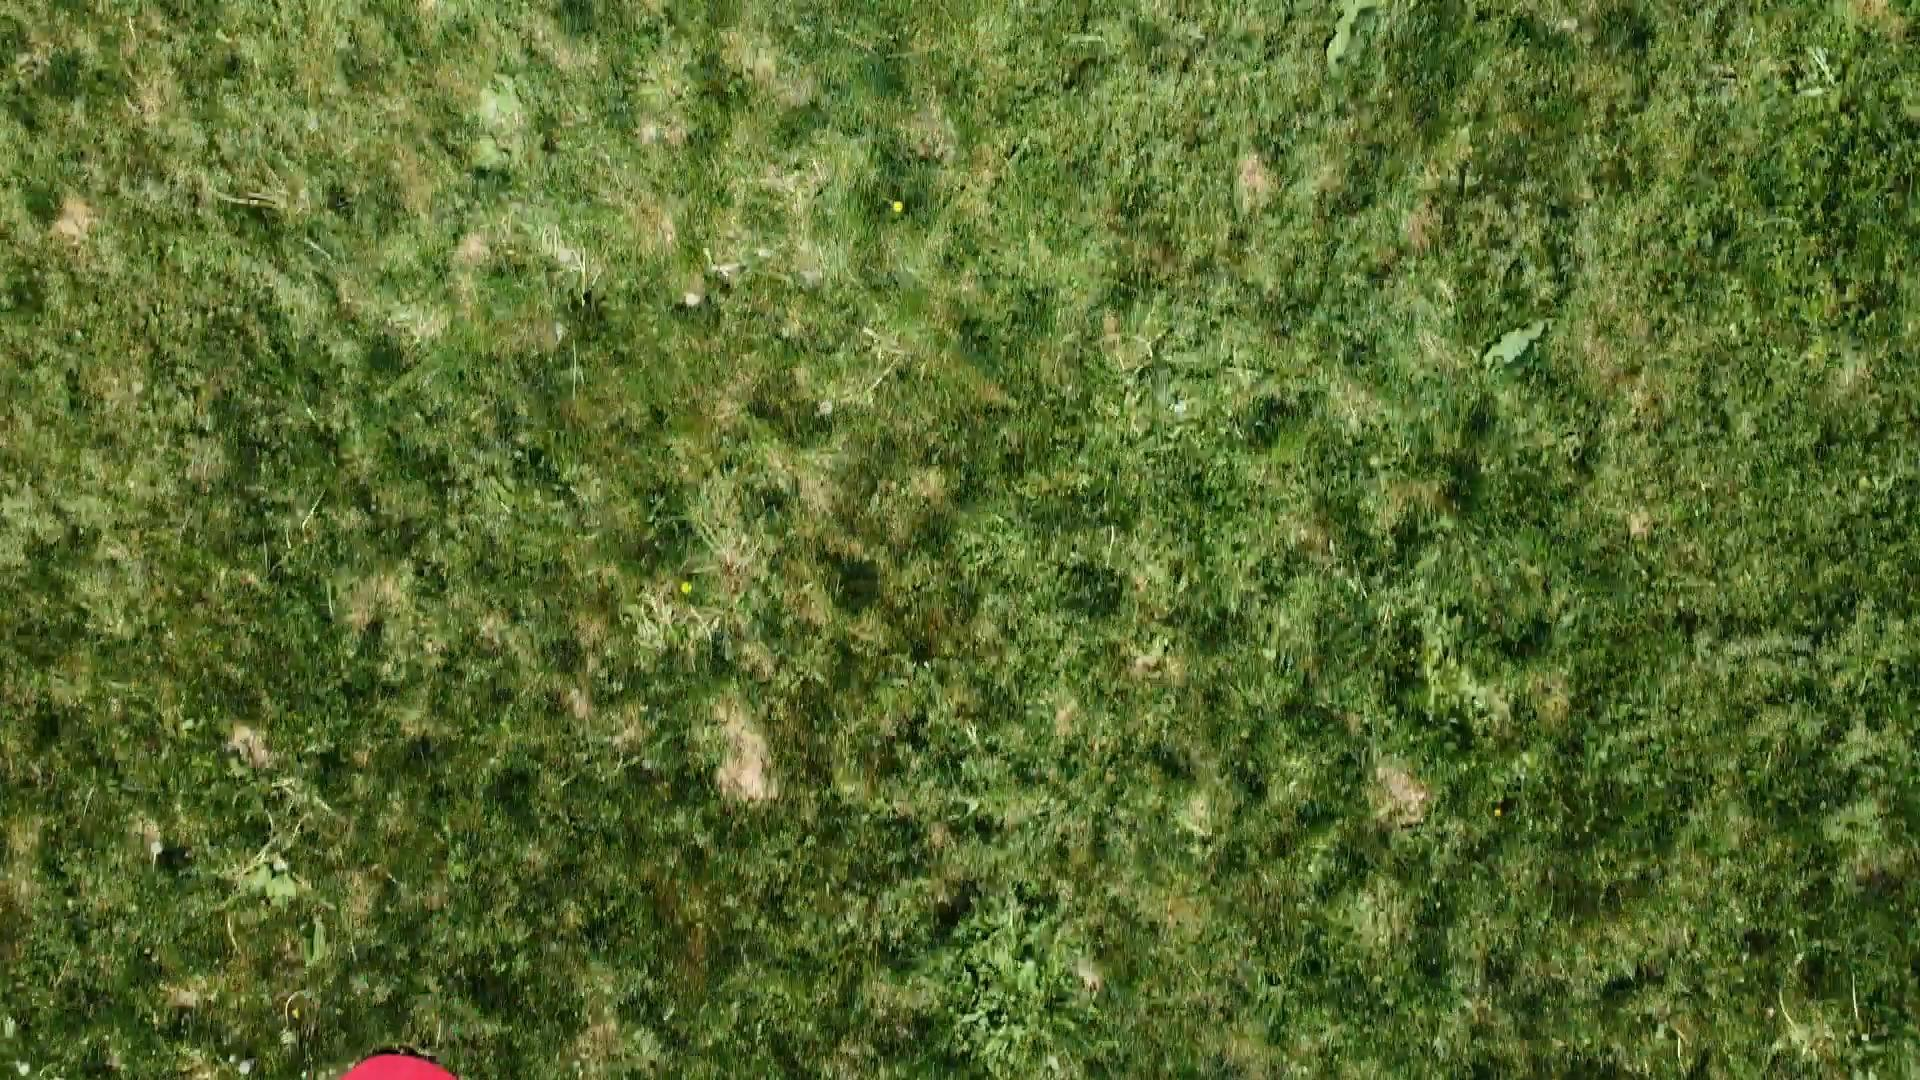Red: (331, 1051, 465, 1080)
